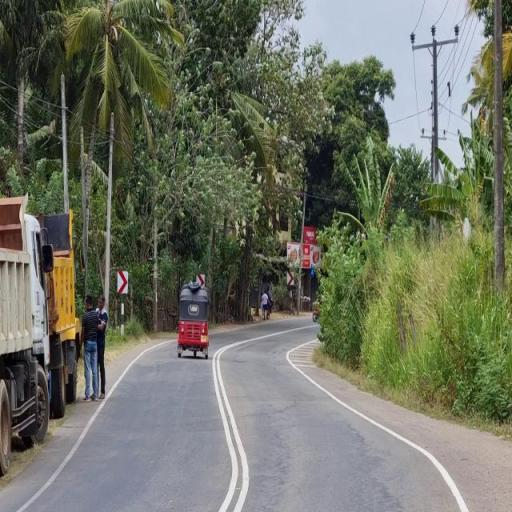double_white_line: (290, 337, 466, 512), (212, 341, 250, 511)
